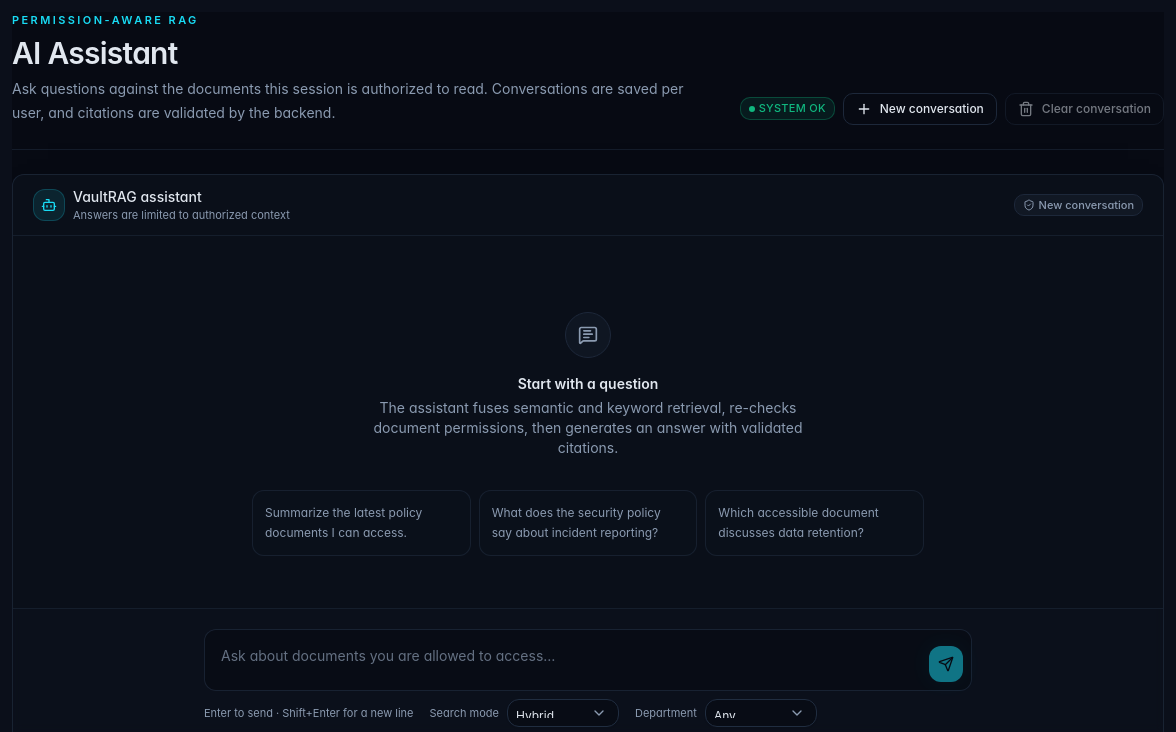
it: ChatPage › renders a grounded answer with evidence, grouped citations and timings
Type "What does the security policy say about incident reporting?" into the text box named "Question". click: (567, 660)
box: top-left (213, 638), bottom-right (921, 682)
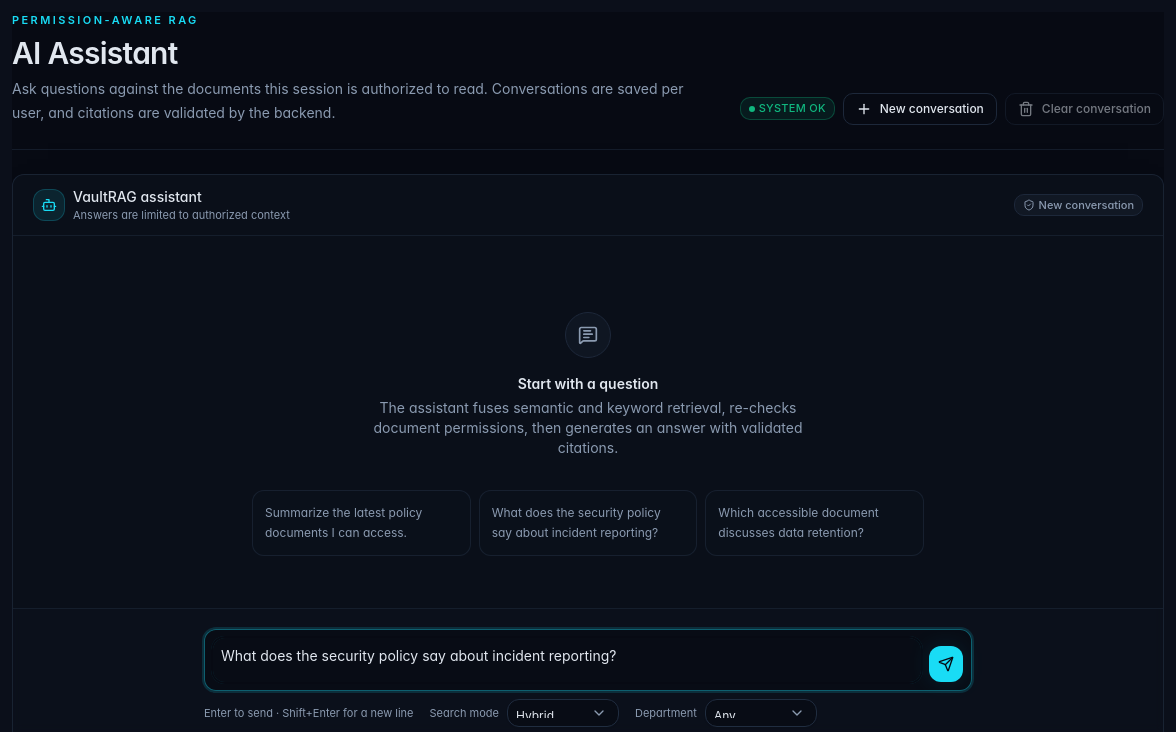
Click the button named "Send question". click: (946, 664)
box: top-left (929, 646), bottom-right (963, 682)
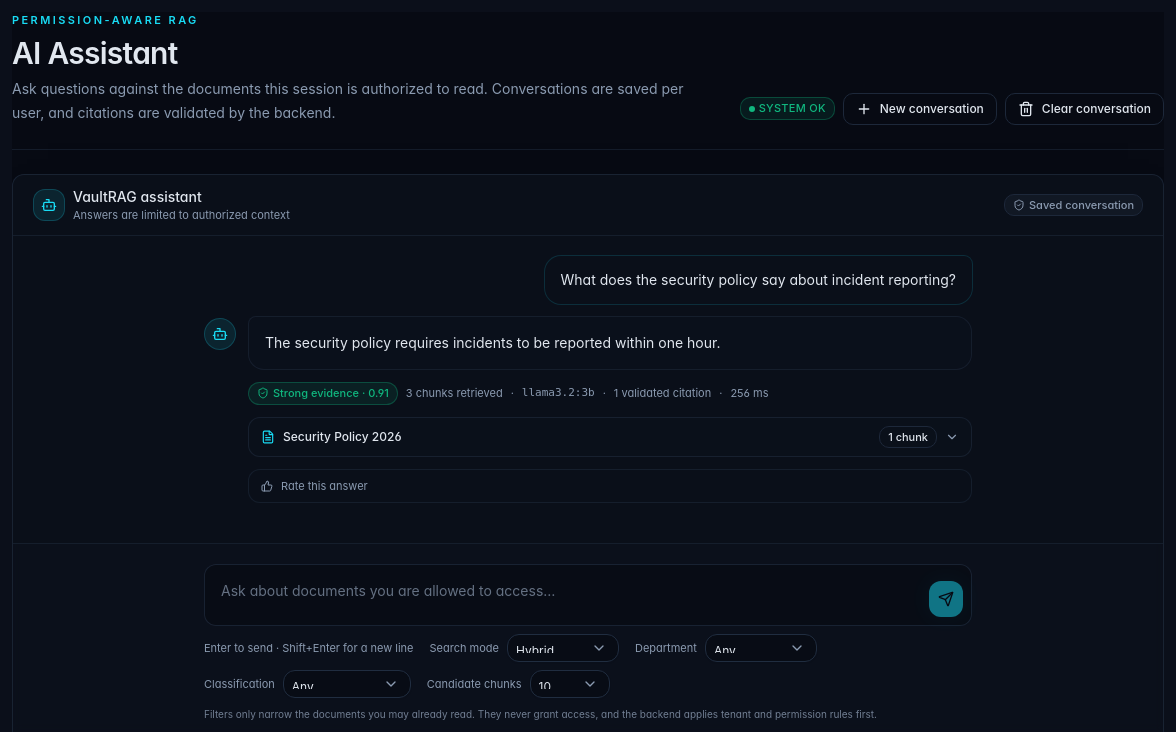
Expected: the text "The security policy requires incidents to be reported within one hour." is shown, top-left (265, 334), bottom-right (720, 351)
Expected: the text "3 chunks retrieved" is shown, top-left (406, 385), bottom-right (503, 402)
Expected: the text "llama3.2:3b" is shown, top-left (522, 385), bottom-right (595, 402)
